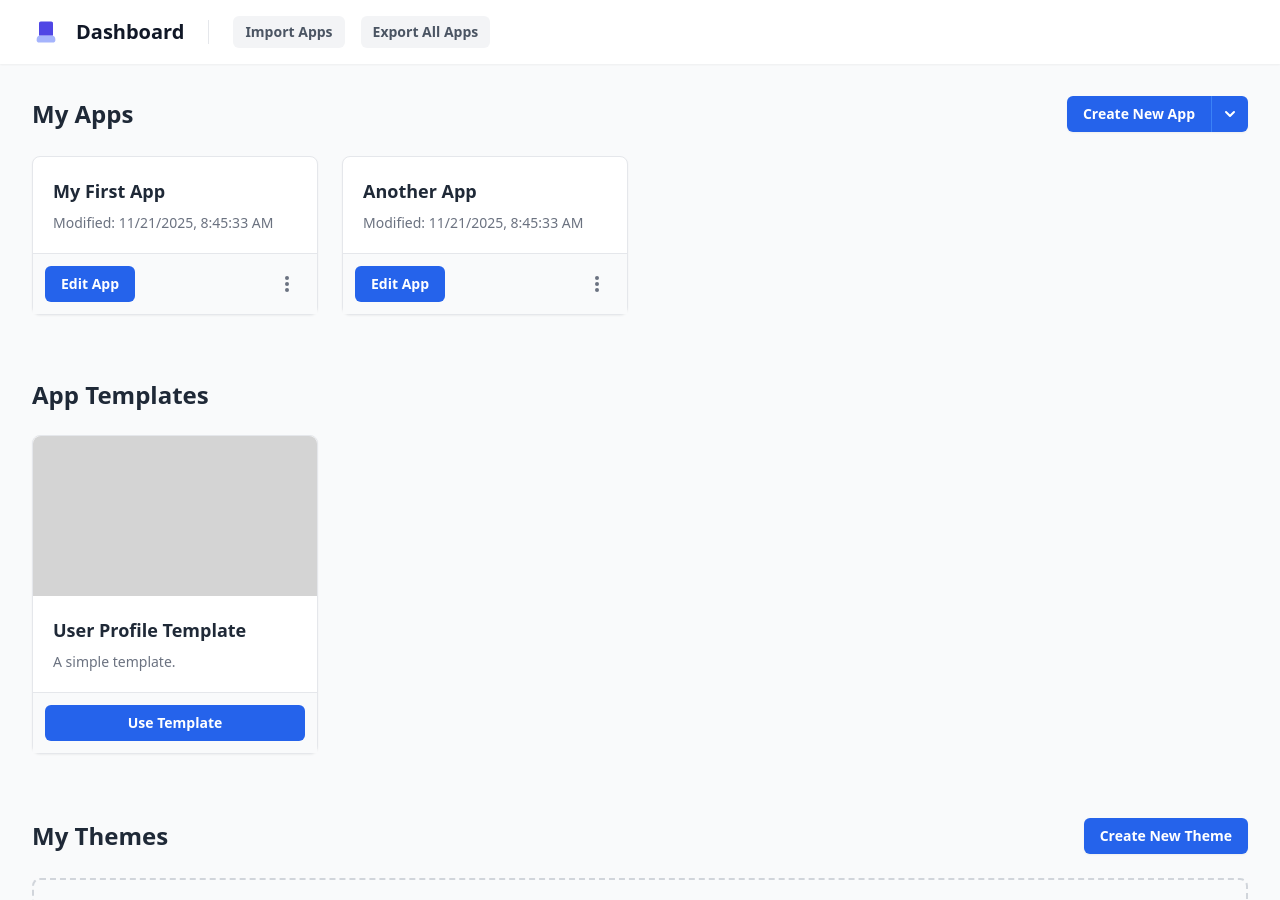
Test case: Dashboard › should open the create app modal when "Create New App" is clicked
Click the button "Create New App": (1139, 114) x1=1067 y1=96 x2=1211 y2=132
(page scrolled)
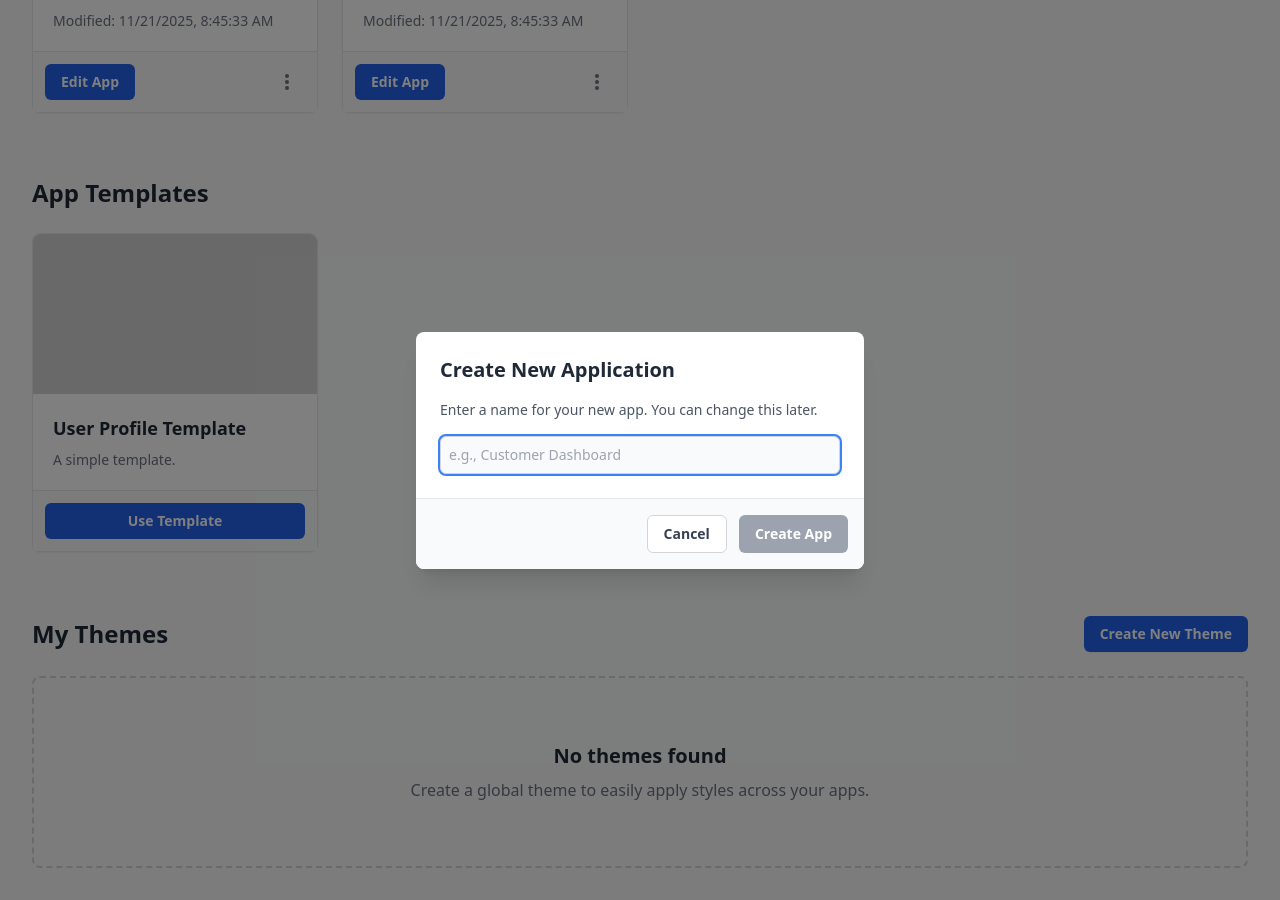
Expected: the heading "Create New Application" is shown, x1=440 y1=356 x2=675 y2=382
